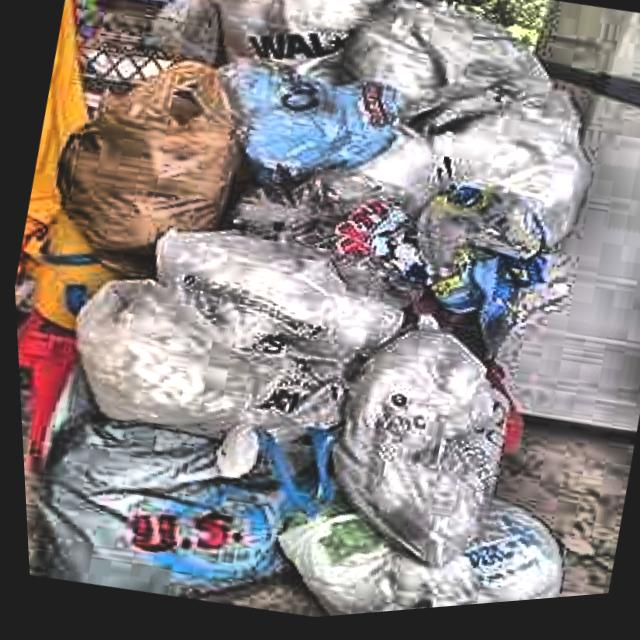Plastic: (32, 240, 365, 500), (21, 373, 345, 638), (20, 24, 285, 307), (307, 293, 541, 595), (327, 21, 618, 259), (248, 470, 577, 625)
